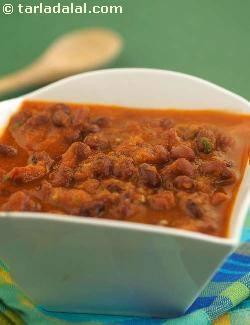rajma: (6, 99, 250, 224)
